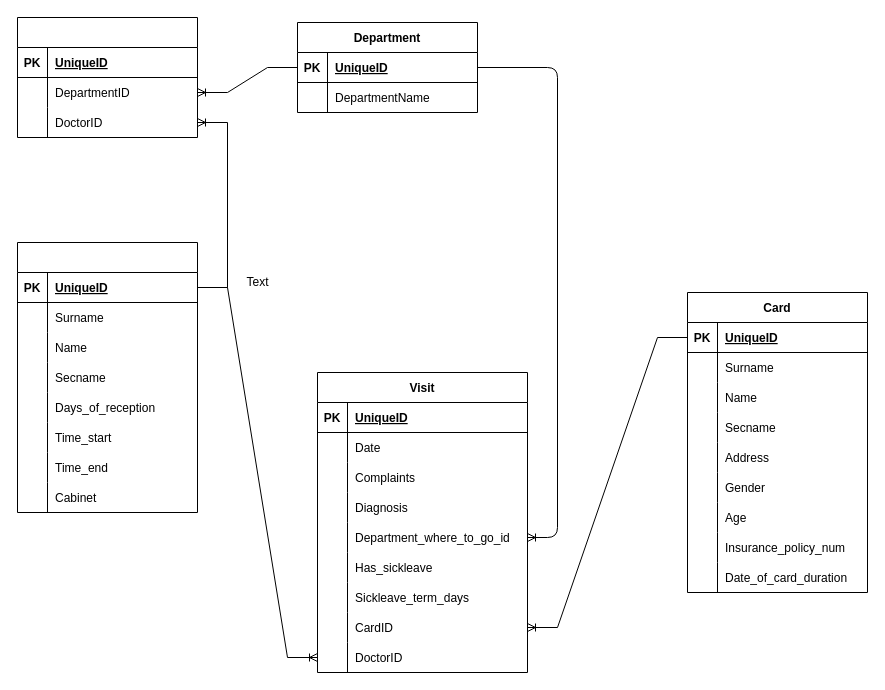
Image size: 885x690. Some labels were removed from this diagram. Each missing label, with the box of its shape:
DepartmentToDoctor: (16, 16, 198, 138)
Doctor: (16, 242, 198, 512)
